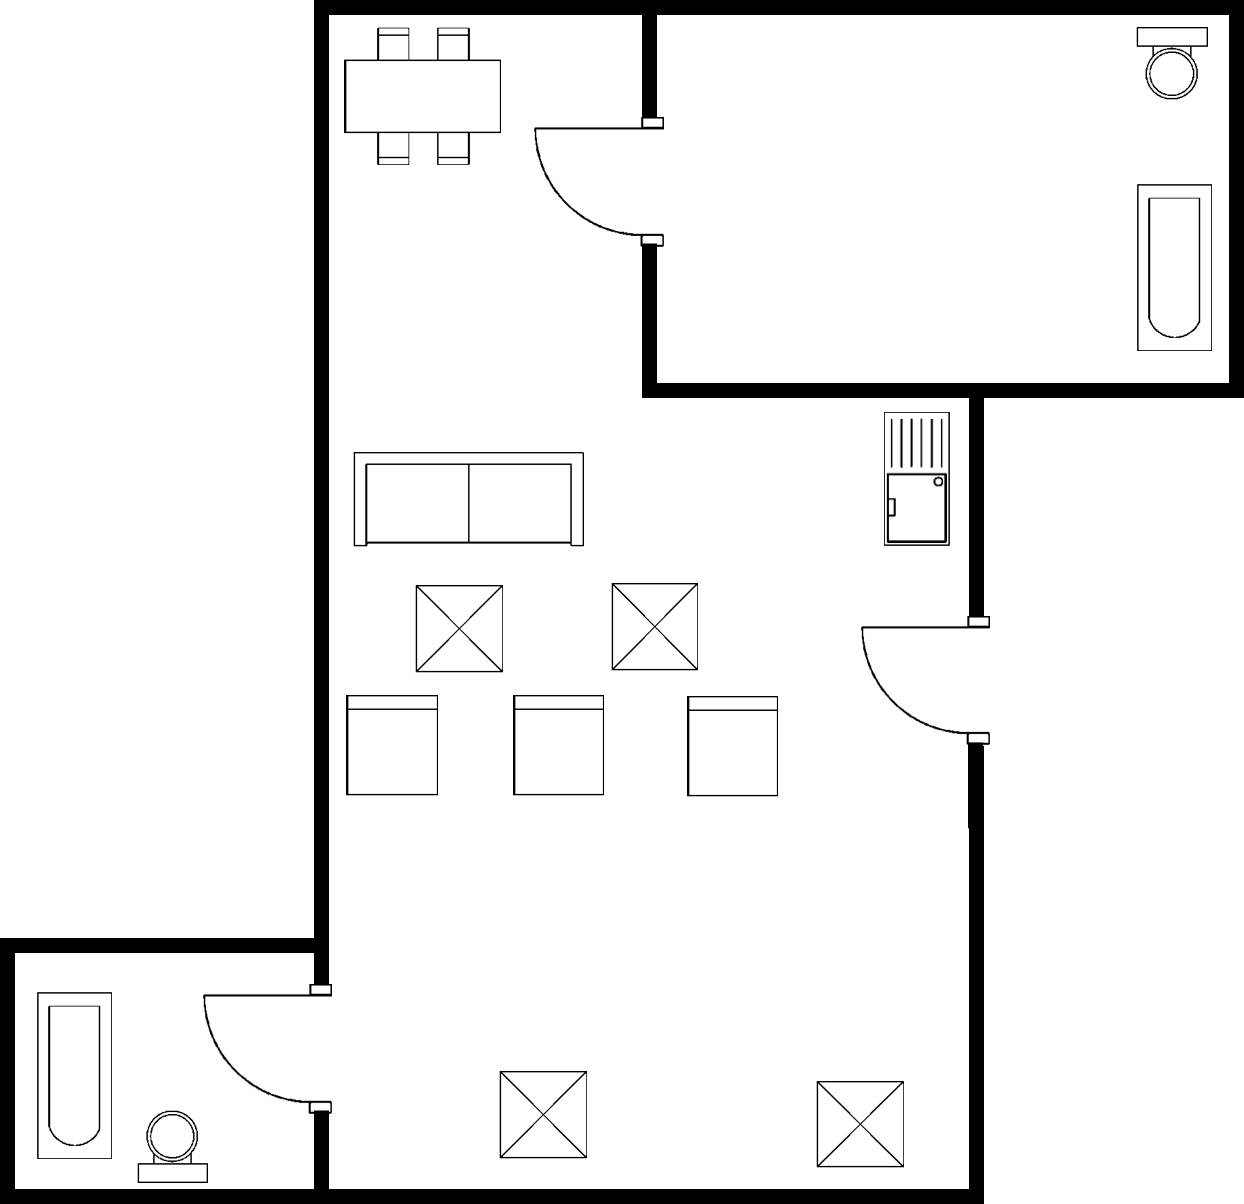coffee_table: (491, 1060, 601, 1165), (604, 574, 710, 679), (409, 575, 512, 682), (805, 1073, 910, 1174)
dining_table: (338, 20, 511, 172)
large_sink: (1129, 20, 1216, 103), (130, 1107, 214, 1183)
large_sofa: (345, 445, 596, 554)
sink: (876, 401, 961, 558)
small_sofa: (678, 688, 788, 806), (338, 686, 446, 802), (505, 687, 612, 802)
tub: (29, 983, 122, 1167), (1131, 172, 1219, 360)
